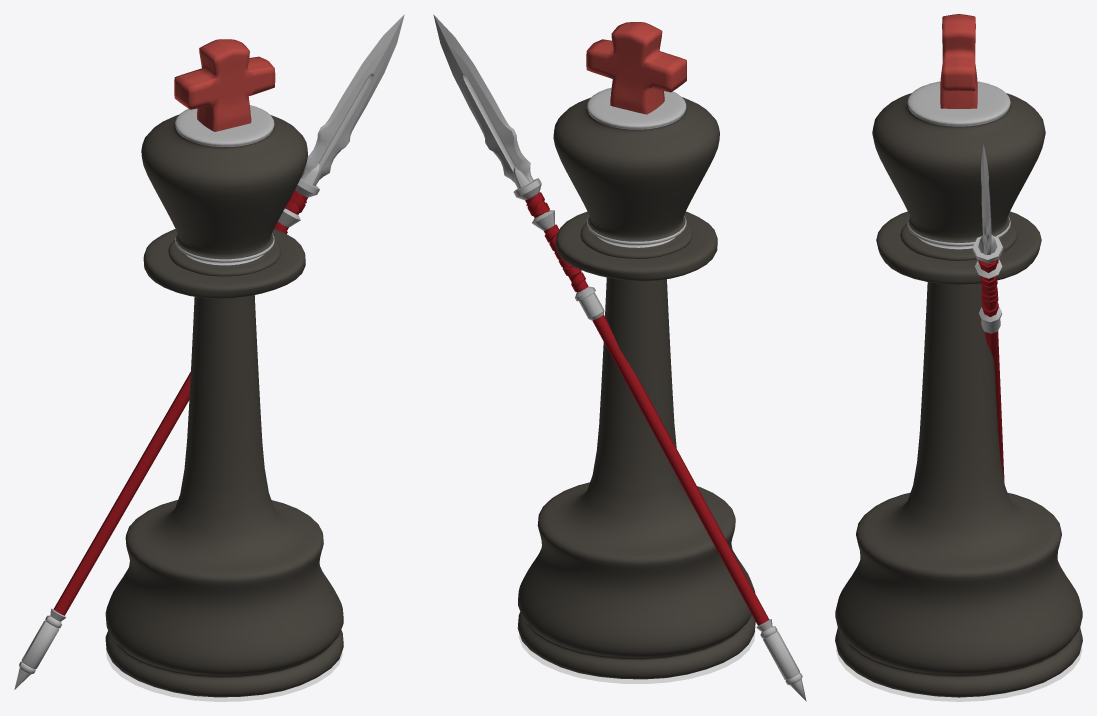
Rendered from Rei2.fbx.
3 views of the same model, side by side, from view 1: azimuth 30°, elevation 25°; view 2: azimuth 150°, elevation 25°; view 3: azimuth 270°, elevation 25° (orthographic). The views are drawn at different scales.
Parts seen in each view (by area): view 1: Konge-m, 2507, Krone-m, 1433, Bonde-m.036; view 2: Konge-m, 2507, Krone-m, 1433, Bonde-m.036; view 3: Konge-m, Krone-m, 2507, 1433, Bonde-m.036.
Part boxes in pixels (x1,y1,x2,y2): Konge-m: (105,105,343,697); 2507: (14,14,404,689); Krone-m: (174,39,275,131); 1433: (54,190,307,615); Bonde-m.036: (106,648,342,701); Konge-m: (517,87,755,679); 2507: (433,14,806,701); Krone-m: (586,22,686,114); 1433: (525,192,769,625); Bonde-m.036: (518,630,755,683); Konge-m: (835,81,1082,697); Krone-m: (940,14,977,108); 2507: (972,143,1002,333); 1433: (978,259,1004,480); Bonde-m.036: (836,647,1082,701).
Bounding box in the file's own units: 7.96 × 12.24 × 4.31.
